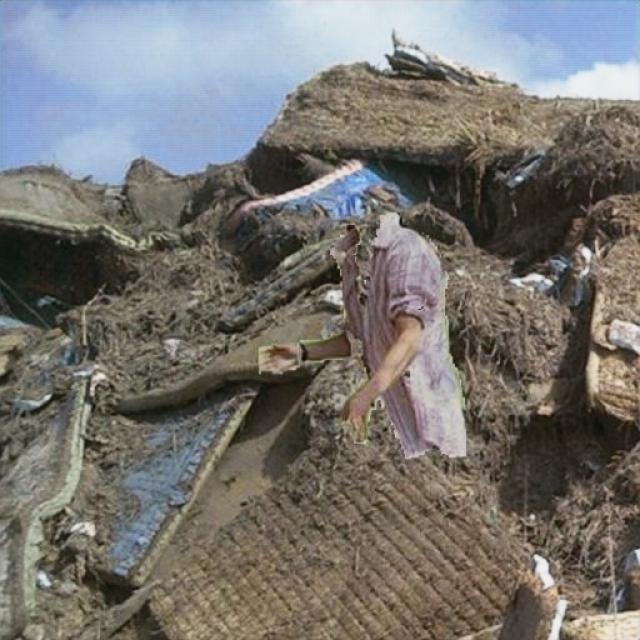Person in Rubble: (256, 212, 465, 458)
